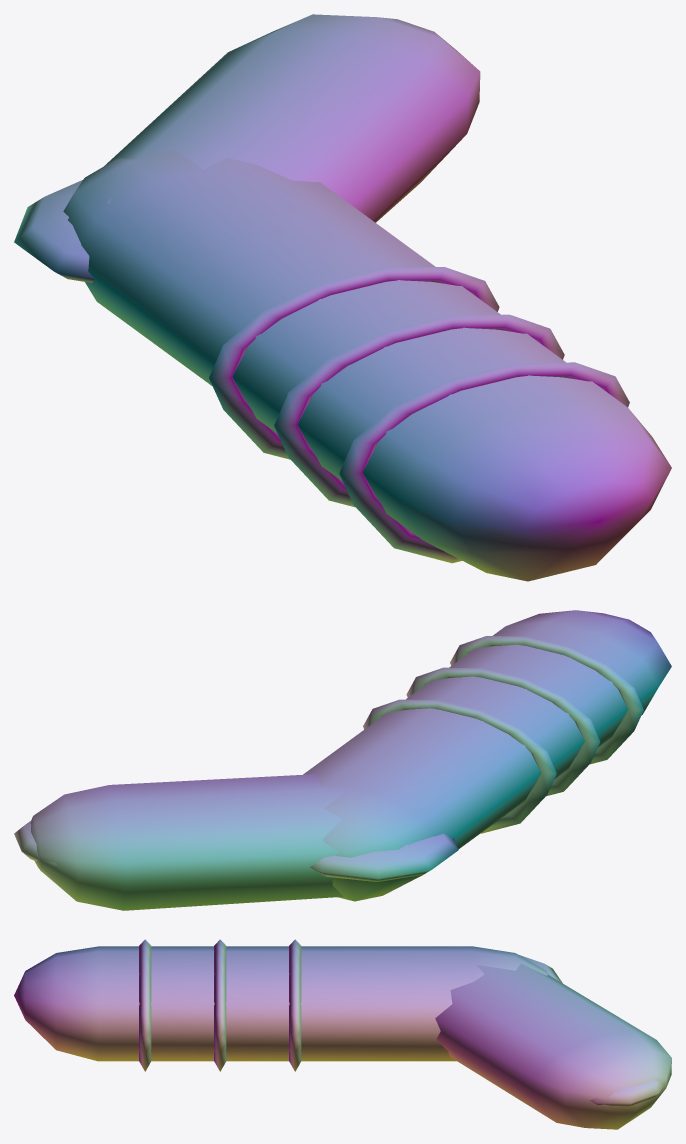
File: env_deco_sock.glb
3 renders of one model, top to bottom at view 1: azimuth 30°, elevation 25°; view 2: azimuth 150°, elevation 25°; view 3: azimuth 270°, elevation 25°, orthographic. The views are drawn at different scales.
Visible parts, largest first — view 1: env_deco_sock_mesh; view 2: env_deco_sock_mesh; view 3: env_deco_sock_mesh.
Boxes of the visible parts, bbox=[...] form: env_deco_sock_mesh: bbox=[14, 14, 671, 581]; env_deco_sock_mesh: bbox=[14, 610, 671, 910]; env_deco_sock_mesh: bbox=[14, 939, 671, 1129].
Size of the model in its own units: 0.3722 by 0.1247 by 0.7019.
